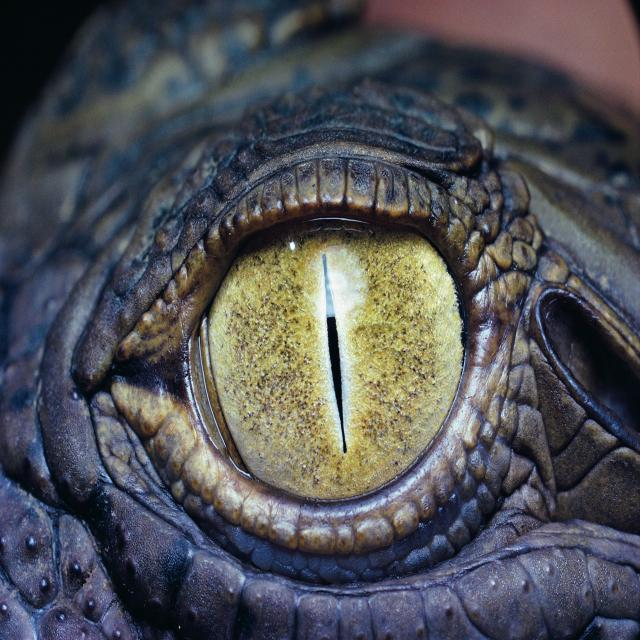not_pig: (5, 41, 638, 637)
